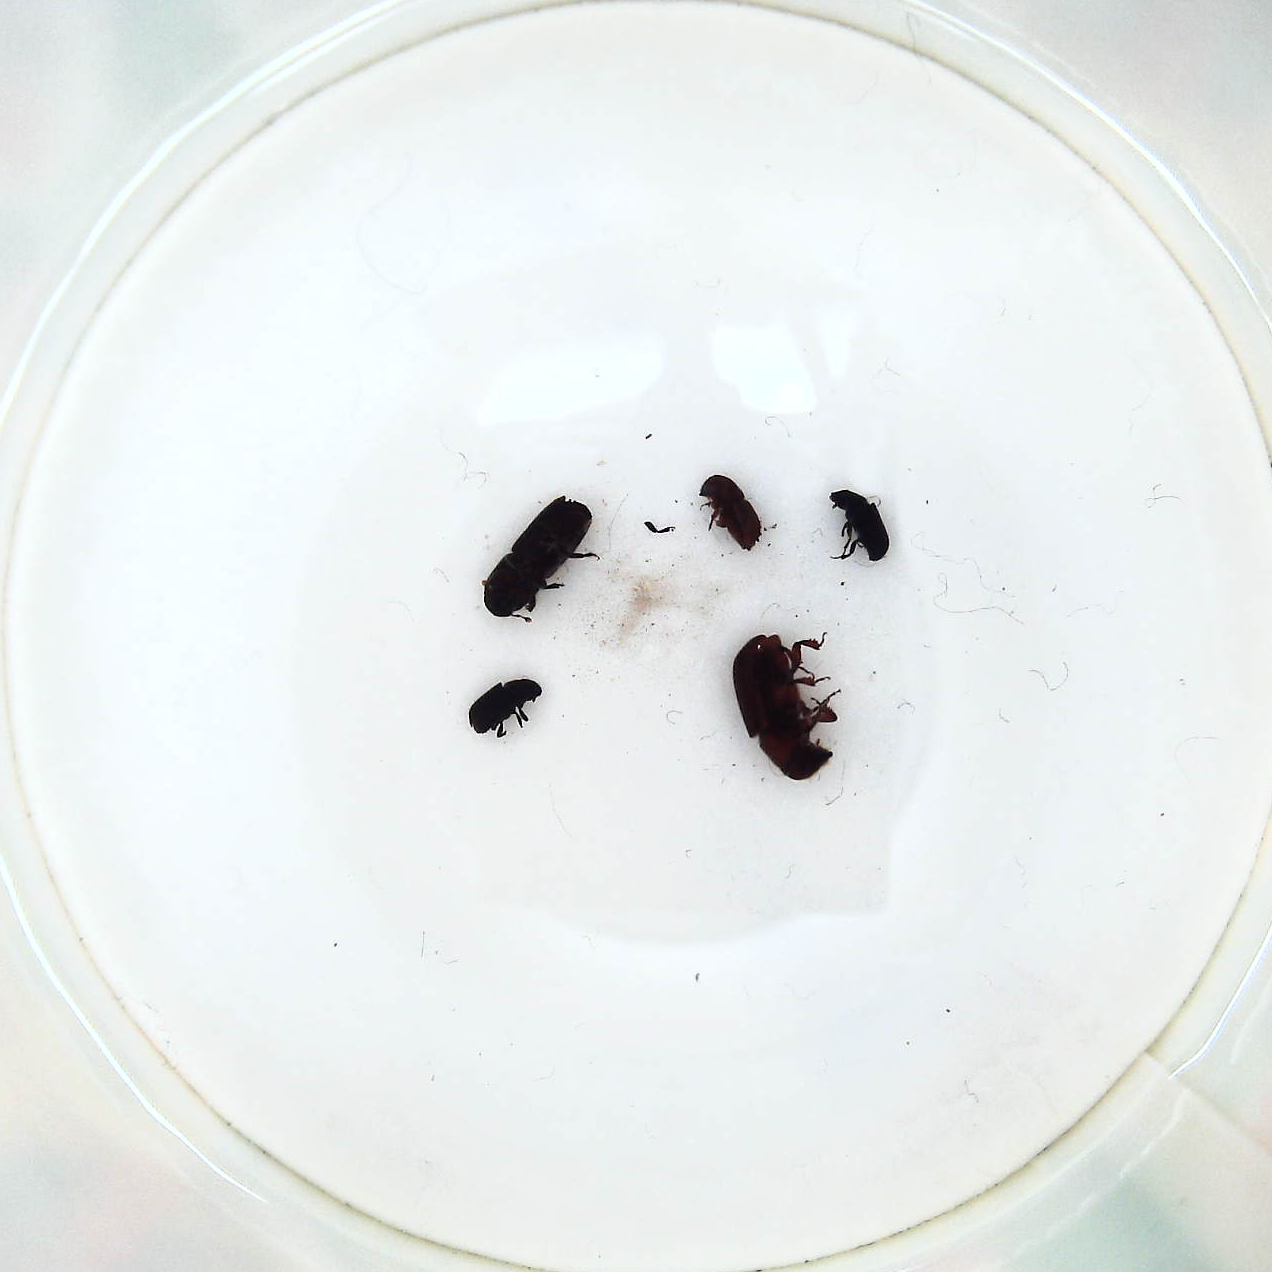Boerner: (479, 494, 603, 624)
Leconte: (732, 628, 849, 789)
armandi: (464, 674, 547, 743)
coleoptera: (828, 482, 896, 565)
linnaeus: (697, 467, 769, 554)
